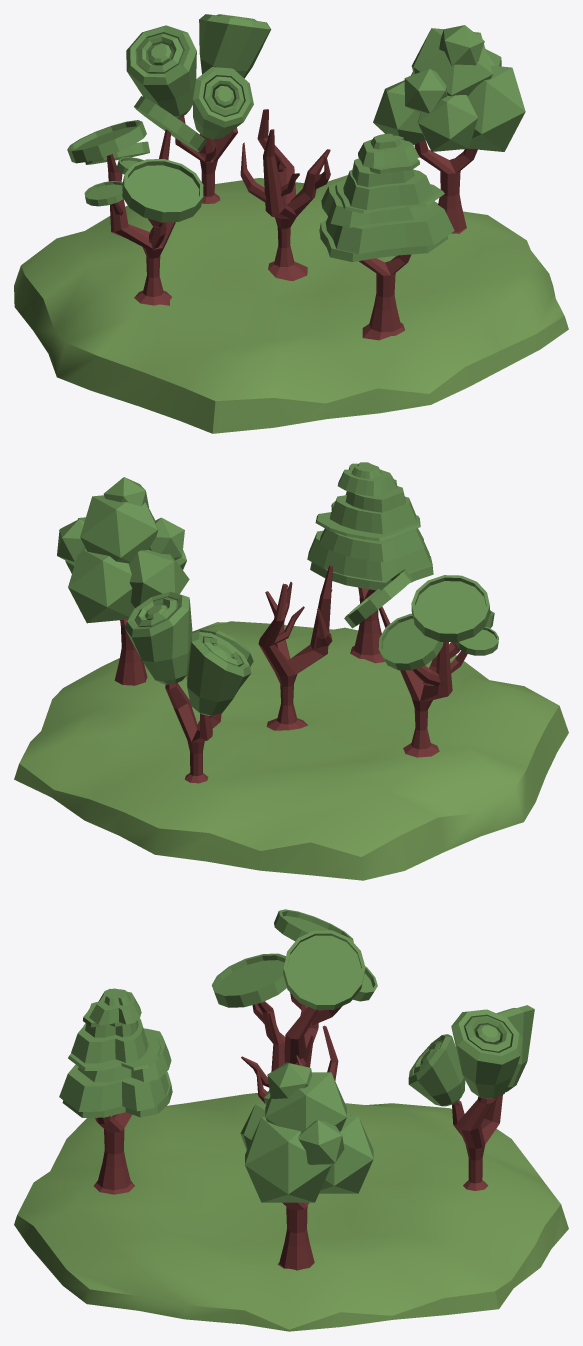
The model's file is park.gltf.
3 renders of one model, top to bottom at view 1: azimuth 30°, elevation 25°; view 2: azimuth 150°, elevation 25°; view 3: azimuth 270°, elevation 25°, orthographic. The views are drawn at different scales.
Parts seen in each view (by area): view 1: Plane.003, Icosphere.001, Plane.001, Cylinder.003, Cylinder.006, Cylinder.004, Cylinder.007, Plane.002, Icosphere.002, Cylinder.002; view 2: Plane.003, Icosphere.001, Plane.001, Cylinder.003, Cylinder.006, Cylinder.004, Cylinder.007, Cylinder.002, Plane.002, Icosphere.002; view 3: Plane.003, Icosphere.001, Plane.001, Cylinder.006, Cylinder.003, Cylinder.002, Plane.002, Cylinder.007, Icosphere.002, Cylinder.004.
Part boxes in pixels (left/top/right/bottom): Plane.003: left=14, top=175, right=568, bottom=433; Icosphere.001: left=373, top=25, right=525, bottom=151; Plane.001: left=319, top=133, right=454, bottom=261; Cylinder.003: left=126, top=14, right=271, bottom=139; Cylinder.006: left=67, top=96, right=207, bottom=222; Cylinder.004: left=240, top=109, right=330, bottom=280; Cylinder.007: left=106, top=129, right=175, bottom=305; Plane.002: left=359, top=254, right=411, bottom=340; Icosphere.002: left=414, top=140, right=477, bottom=233; Cylinder.002: left=175, top=116, right=237, bottom=203; Plane.003: left=14, top=621, right=568, bottom=880; Icosphere.001: left=57, top=477, right=189, bottom=623; Plane.001: left=307, top=462, right=433, bottom=590; Cylinder.003: left=124, top=591, right=253, bottom=715; Cylinder.006: left=344, top=569, right=498, bottom=670; Cylinder.004: left=258, top=565, right=333, bottom=730; Cylinder.007: left=378, top=606, right=467, bottom=757; Cylinder.002: left=165, top=683, right=221, bottom=783; Plane.002: left=350, top=587, right=385, bottom=663; Icosphere.002: left=114, top=619, right=147, bottom=685; Plane.003: left=14, top=1093, right=568, bottom=1331; Icosphere.001: left=240, top=1062, right=373, bottom=1202; Plane.001: left=59, top=988, right=172, bottom=1117; Cylinder.006: left=211, top=909, right=377, bottom=1009; Cylinder.003: left=408, top=1005, right=534, bottom=1106; Cylinder.002: left=452, top=1094, right=502, bottom=1190; Plane.002: left=94, top=1112, right=134, bottom=1194; Cylinder.007: left=252, top=993, right=342, bottom=1064; Icosphere.002: left=277, top=1202, right=314, bottom=1270; Cylinder.004: left=241, top=1011, right=338, bottom=1103.
Bounding box in the file's own units: 36.03 × 18.49 × 36.02.
